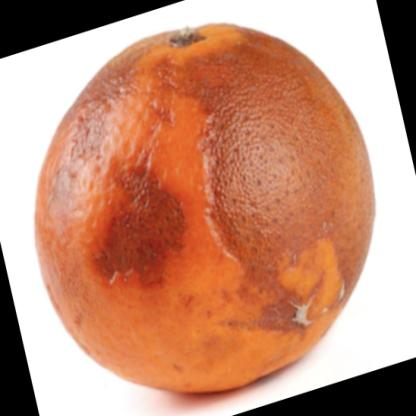rotten: (35, 28, 376, 395)
